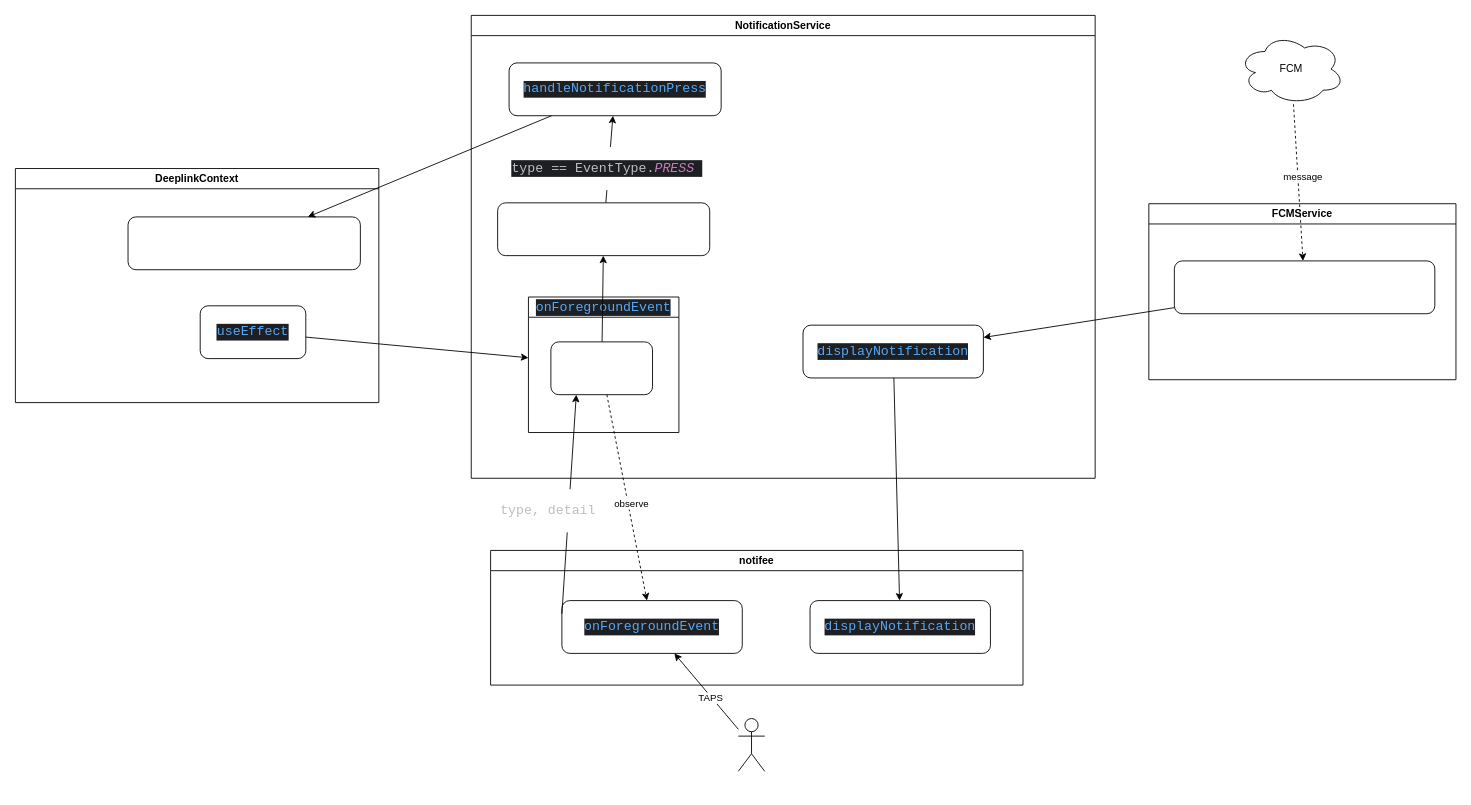
Some shapes in this 1471 by 805 pixel diagram are drawn without their labels. The shapes that lost their labels are listed below. From the top down, each one's centre as x and y in pixels, then its label:
[243,243]: handleNotificationCallback
[603,229]: handleNotificationEvent
[1304,287]: listenForMessagesForeground
[601,368]: observer
[751,744]: User
